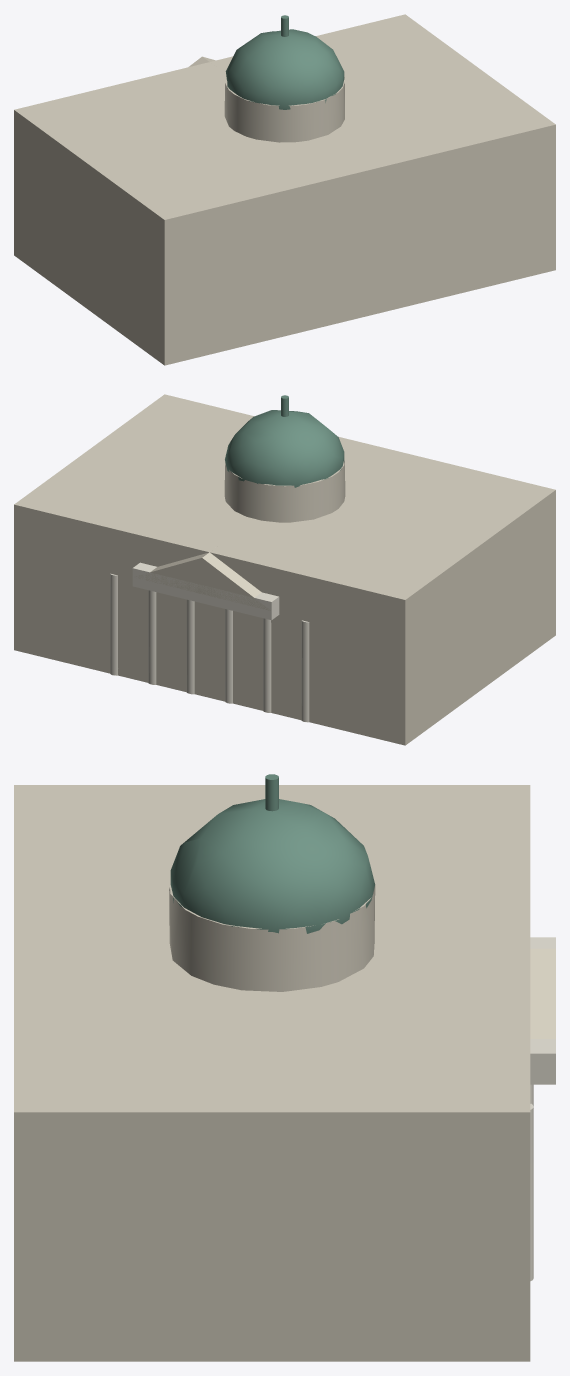
The model's file is d-us-03-collegiate-dome.lod1.glb.
The picture shows the model from 3 angles, top to bottom: view 1: azimuth 30°, elevation 25°; view 2: azimuth 150°, elevation 25°; view 3: azimuth 270°, elevation 25°; orthographic projection. The views are drawn at different scales.
Parts seen in each view (by area): view 1: part0, part10, part9; view 2: part0, part10, part9, part8, part7, part1, part4, part5, part2, part6, part3; view 3: part0, part10, part9, part8, part7, part6.
Part boxes in pixels (bbox=[...]): part0: bbox=[14, 14, 555, 365]; part10: bbox=[225, 29, 344, 109]; part9: bbox=[224, 76, 344, 142]; part0: bbox=[14, 394, 555, 745]; part10: bbox=[225, 410, 344, 487]; part9: bbox=[224, 460, 345, 522]; part8: bbox=[136, 552, 270, 610]; part7: bbox=[132, 562, 279, 620]; part1: bbox=[301, 620, 309, 722]; part4: bbox=[186, 599, 194, 694]; part5: bbox=[148, 590, 156, 684]; part2: bbox=[263, 618, 271, 712]; part6: bbox=[110, 573, 117, 675]; part3: bbox=[225, 609, 232, 703]; part0: bbox=[14, 785, 530, 1361]; part10: bbox=[170, 799, 375, 933]; part9: bbox=[169, 879, 375, 991]; part8: bbox=[530, 948, 555, 1038]; part7: bbox=[530, 937, 555, 1084]; part6: bbox=[530, 1103, 533, 1281].
Bounding box in the file's own units: 45000 × 27000 × 31501.
